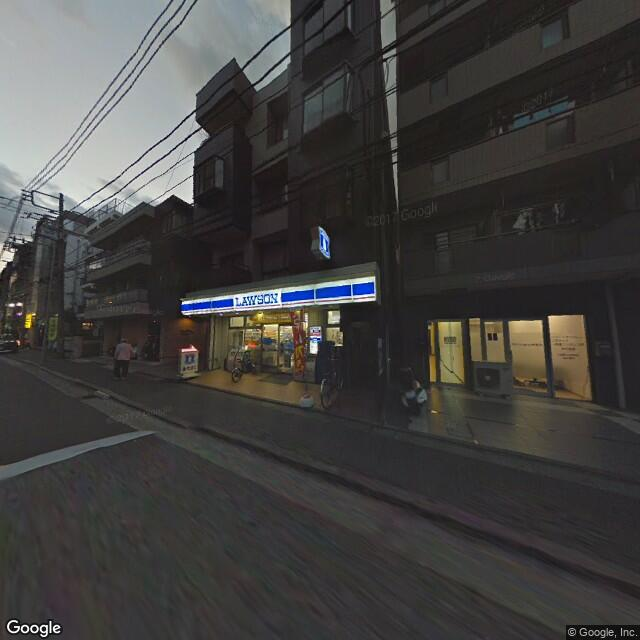lawson: (180, 269, 382, 324)
